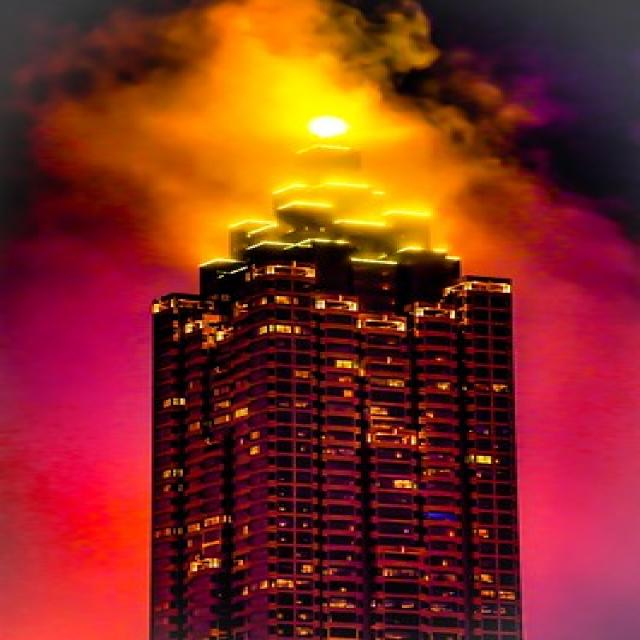Normal_building: (136, 139, 526, 640)
